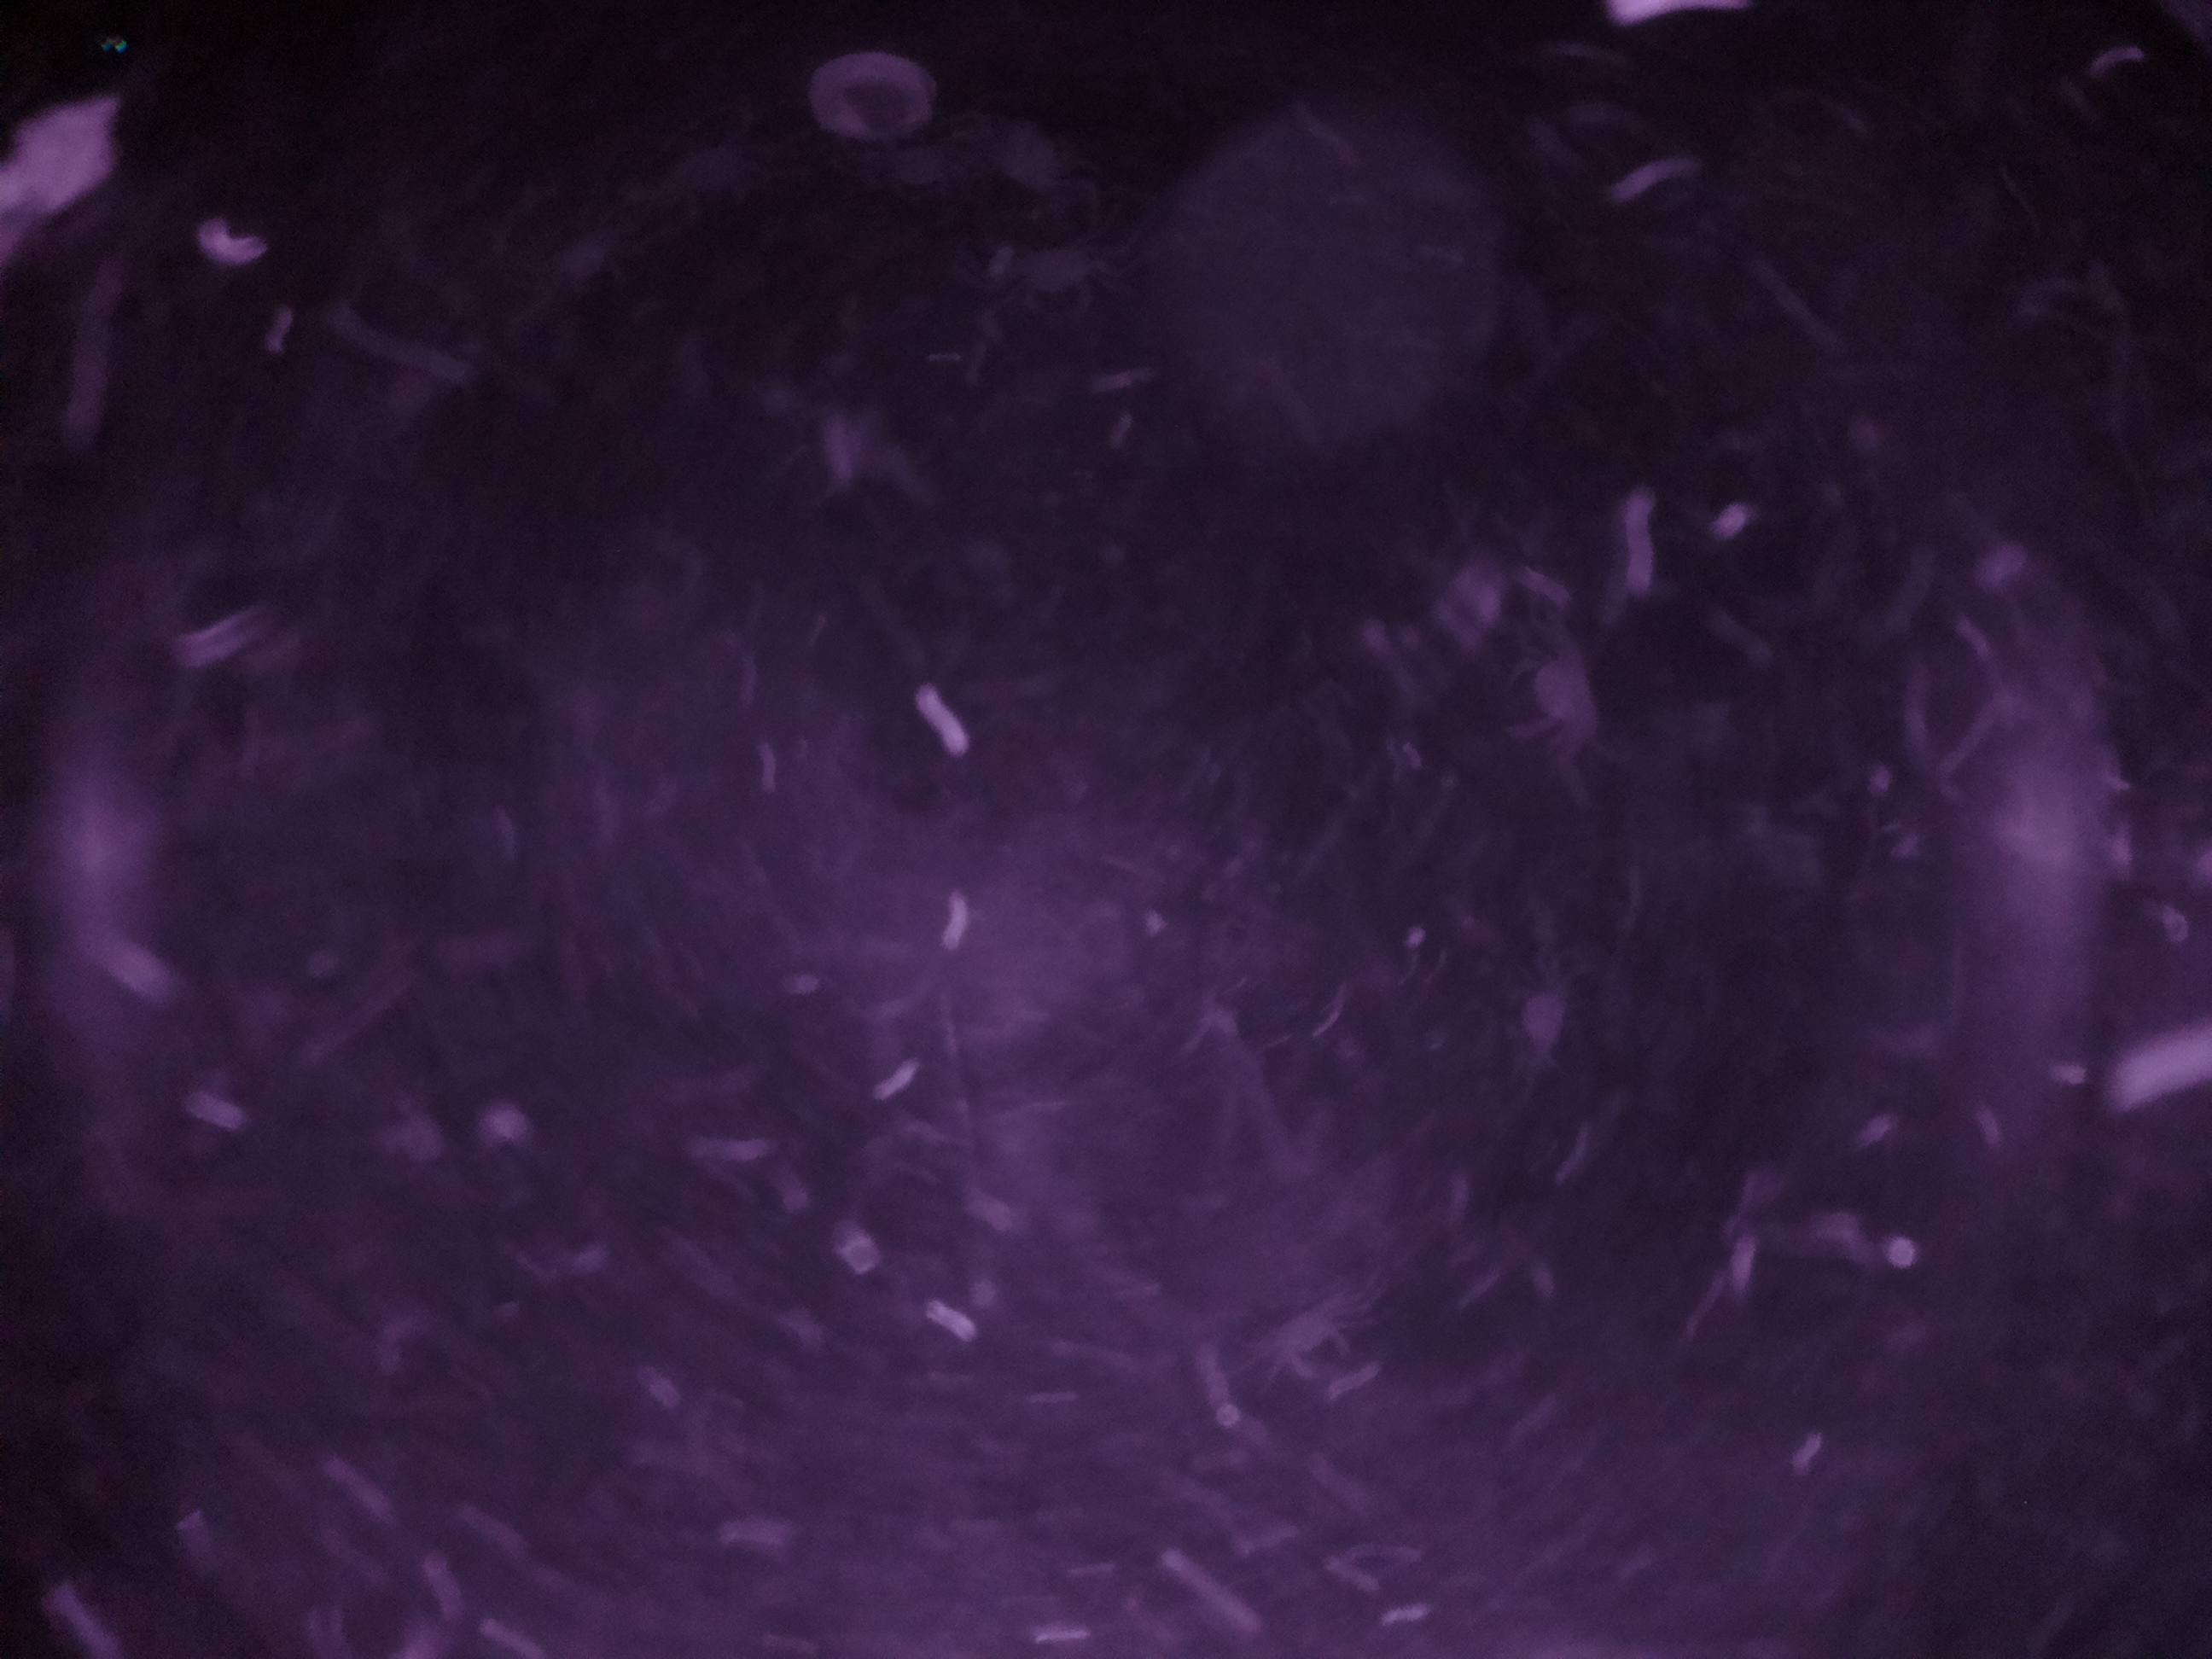Crab: (1489, 624, 1620, 777), (1245, 1291, 1366, 1401)
